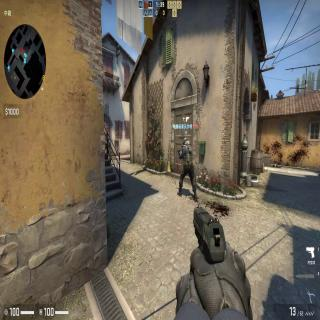CT-Body: (177, 137, 198, 200)
CT-Head: (182, 138, 190, 144)
